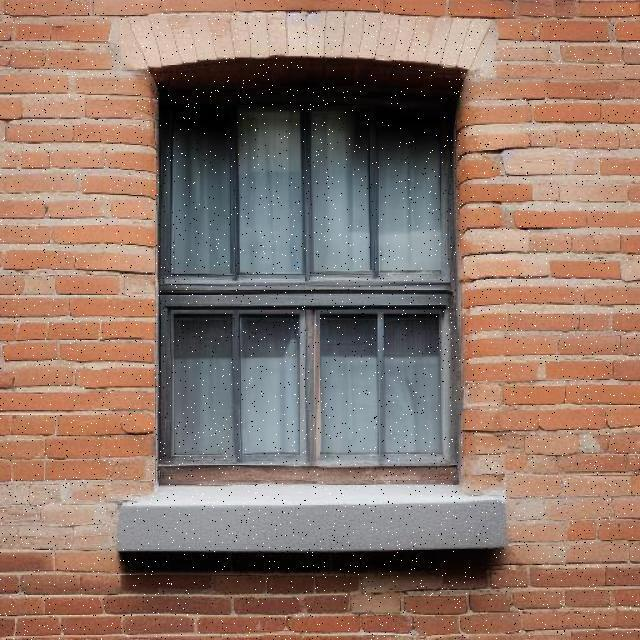window: (156, 67, 460, 483)
